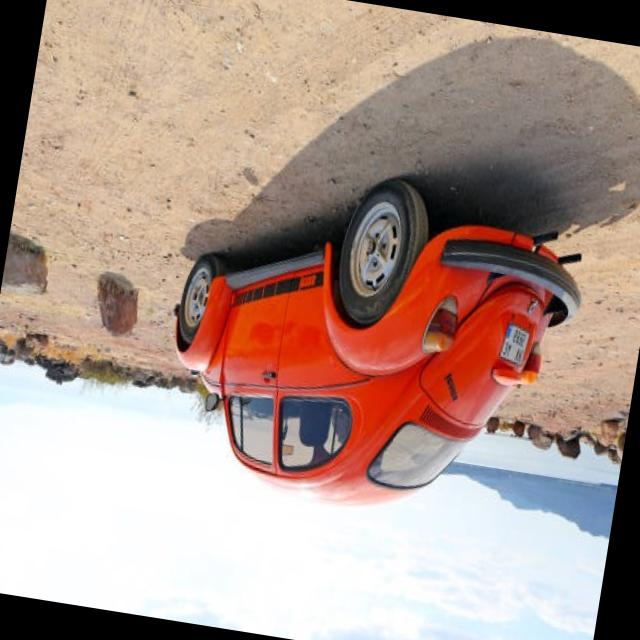car: (142, 156, 594, 534)
